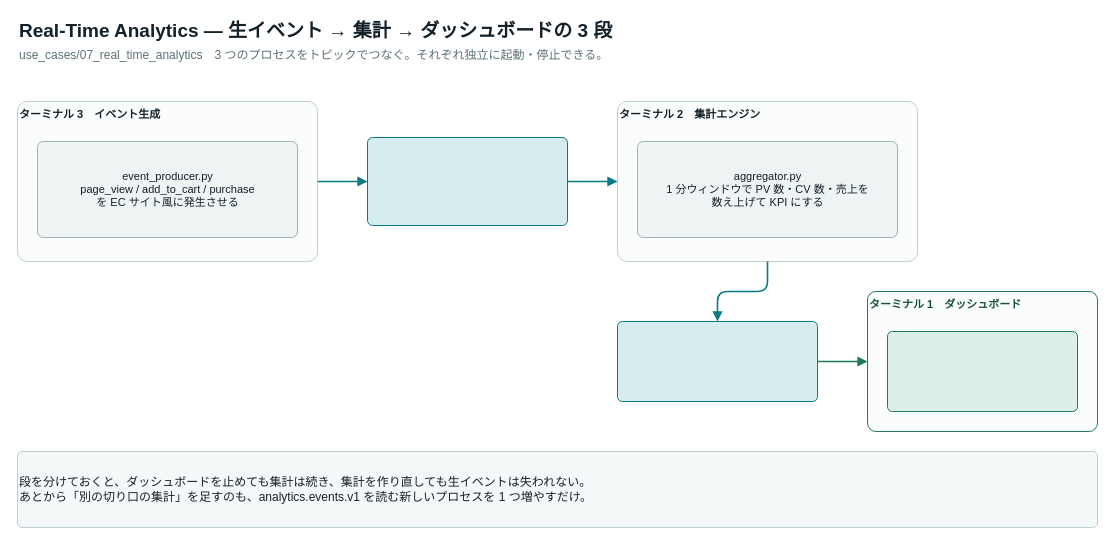
Some shapes in this 1115 by 545 pixel diagram are drawn without their labels. The shapes that lost their labels are listed below. From the top down, each one's centre as x and y in pixels, then its label:
At [467,181]: "analytics.events.v1 生イベント（1 件 = 1 行動）".
At [717,361]: "analytics.kpi.v1 1 分ごとの KPI".
At [982,371]: "dashboard.py rich でコンソールに リアルタイム表示".
